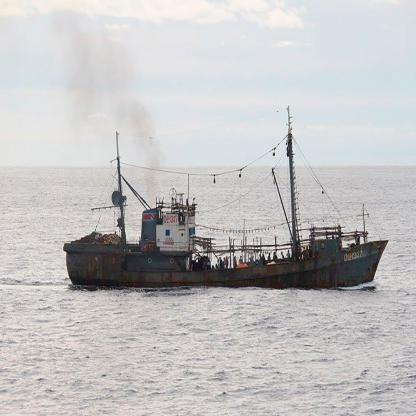Ship: (63, 108, 396, 298)
